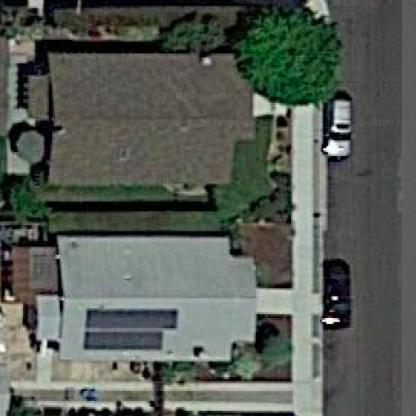car: (316, 251, 355, 337), (318, 85, 356, 165)
solar_panel: (79, 302, 185, 354)
